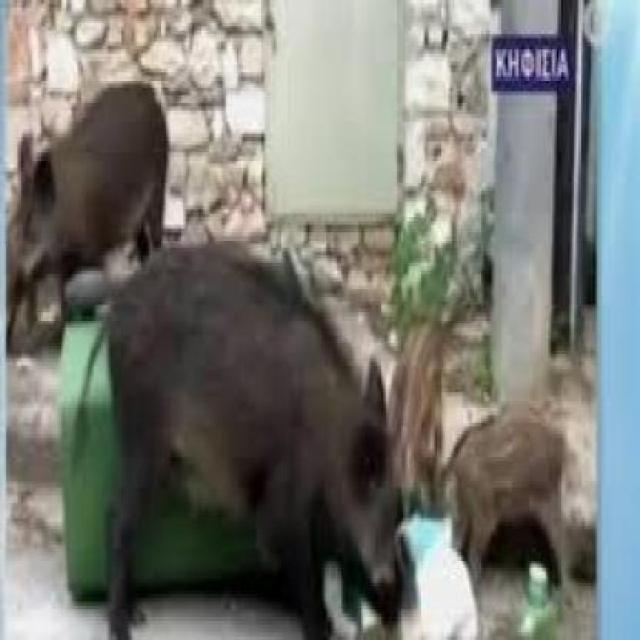wildboar: (63, 235, 414, 640), (0, 73, 178, 367), (429, 390, 588, 616), (375, 306, 453, 537)
